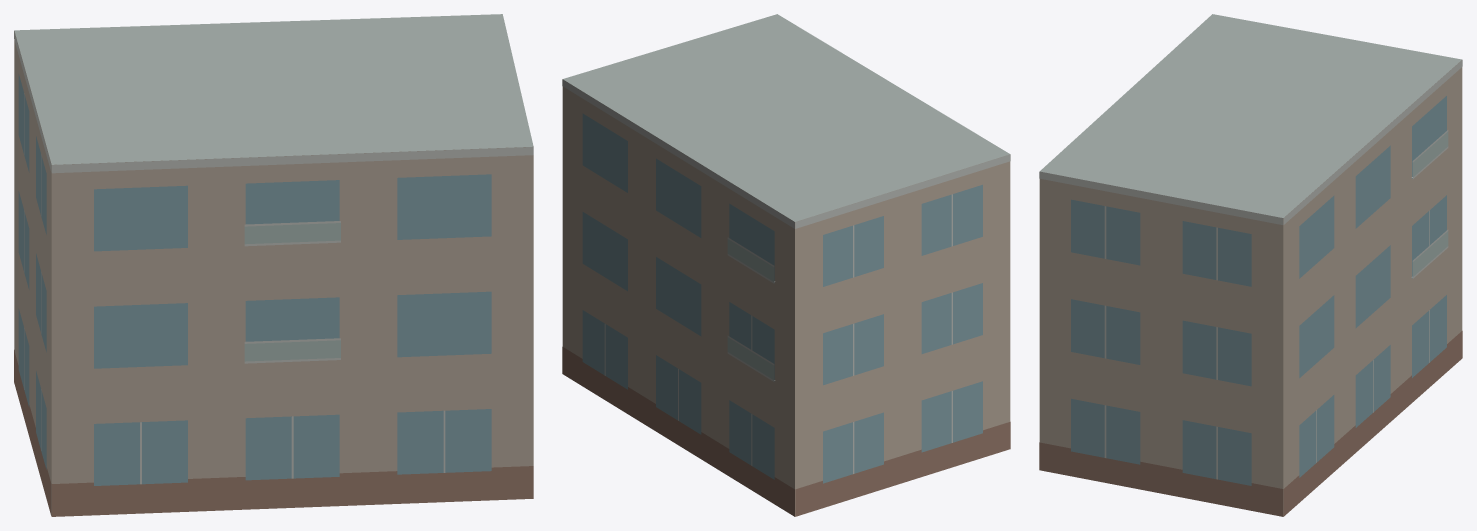
File: survey-upis-32556988.glb
The picture shows the model from 3 angles, left to right: view 1: azimuth 30°, elevation 25°; view 2: azimuth 150°, elevation 25°; view 3: azimuth 270°, elevation 25°; orthographic projection. The views are drawn at different scales.
Parts seen in each view (by area): view 1: survey-upis-32556988.tmp; view 2: survey-upis-32556988.tmp; view 3: survey-upis-32556988.tmp.
Part boxes in pixels (<box>): survey-upis-32556988.tmp: <box>14,14,533,516</box>; survey-upis-32556988.tmp: <box>562,14,1010,516</box>; survey-upis-32556988.tmp: <box>1039,14,1462,516</box>.
Bounding box in the file's own units: 14.96 × 10.2 × 13.1.
